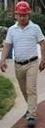boots: (26, 117, 36, 127), (1, 1, 1, 1)
hard-hat: (12, 1, 30, 14)
